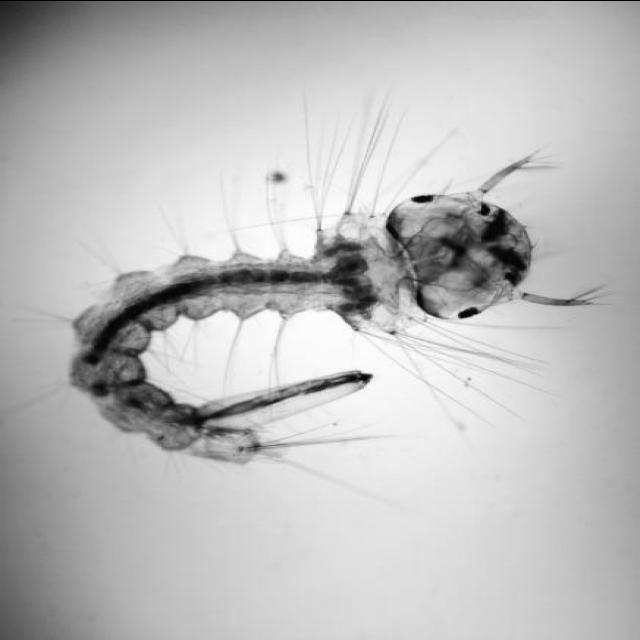larvas: (79, 167, 594, 463)
